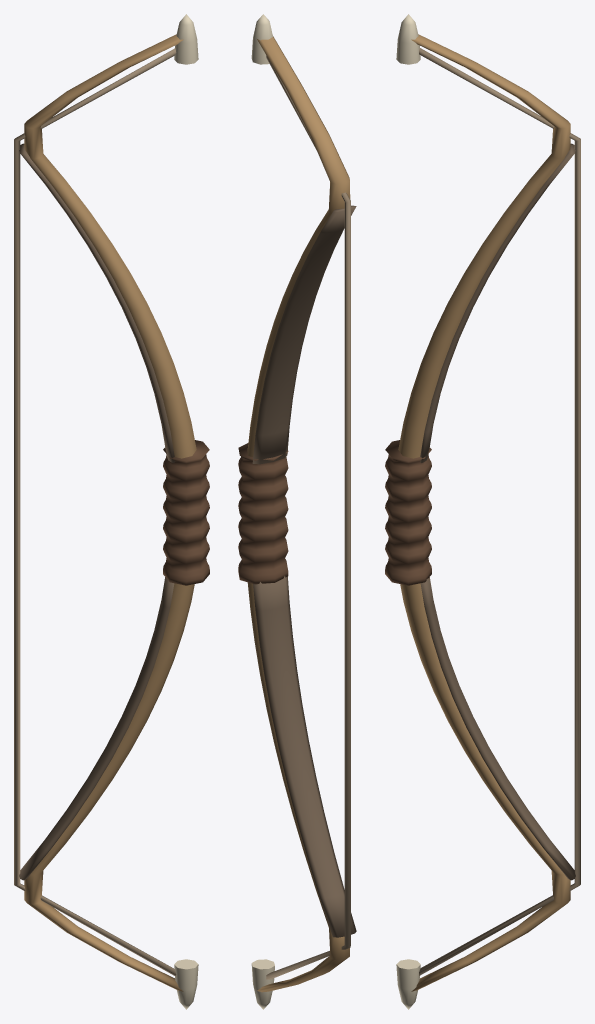
File: composite-shortbow.glb
3 views of the same model, side by side, from view 1: azimuth 90°, elevation 25°; view 2: azimuth 210°, elevation 25°; view 3: azimuth 270°, elevation 25° (orthographic).
Parts seen in each view (by area): view 1: composite-shortbow; view 2: composite-shortbow; view 3: composite-shortbow.
Boxes of the visible parts, x1=… form: composite-shortbow: x1=14, y1=14, x2=209, y2=1009; composite-shortbow: x1=238, y1=14, x2=356, y2=1009; composite-shortbow: x1=385, y1=14, x2=580, y2=1009.
Size of the model in its own units: 0.1196 by 2.4 by 0.428.
